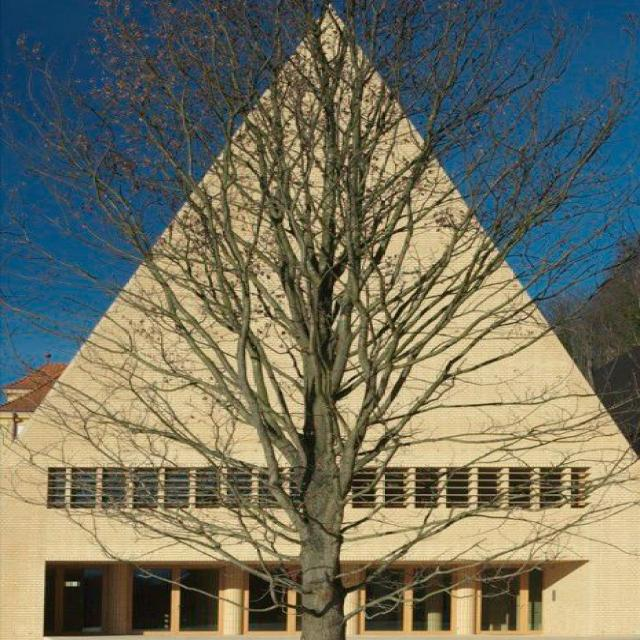door: (134, 564, 226, 634), (359, 571, 455, 636), (475, 572, 548, 638), (242, 570, 305, 637), (47, 570, 107, 628)
plant: (0, 0, 636, 639)
wall: (0, 2, 639, 639)
